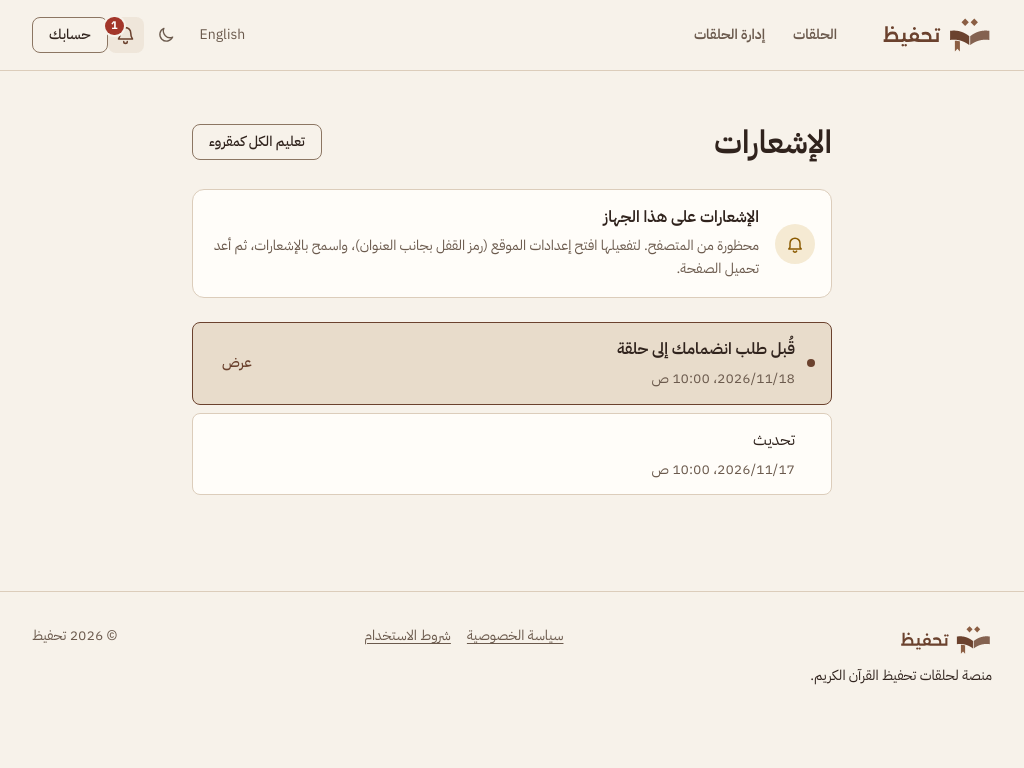
Test case: notifications › shows the unread count on the bell and marks everything read
The width and height of the screenshot is (1024, 768).
Expected: the link named "الإشعارات، واحد غير مقروء" is shown, top-left (108, 17), bottom-right (144, 53)
Expected: the text "تحديث" is shown, top-left (753, 428), bottom-right (795, 452)
Click the button "تعليم الكل كمقروء" at (257, 142), box top-left (192, 124), bottom-right (322, 160)
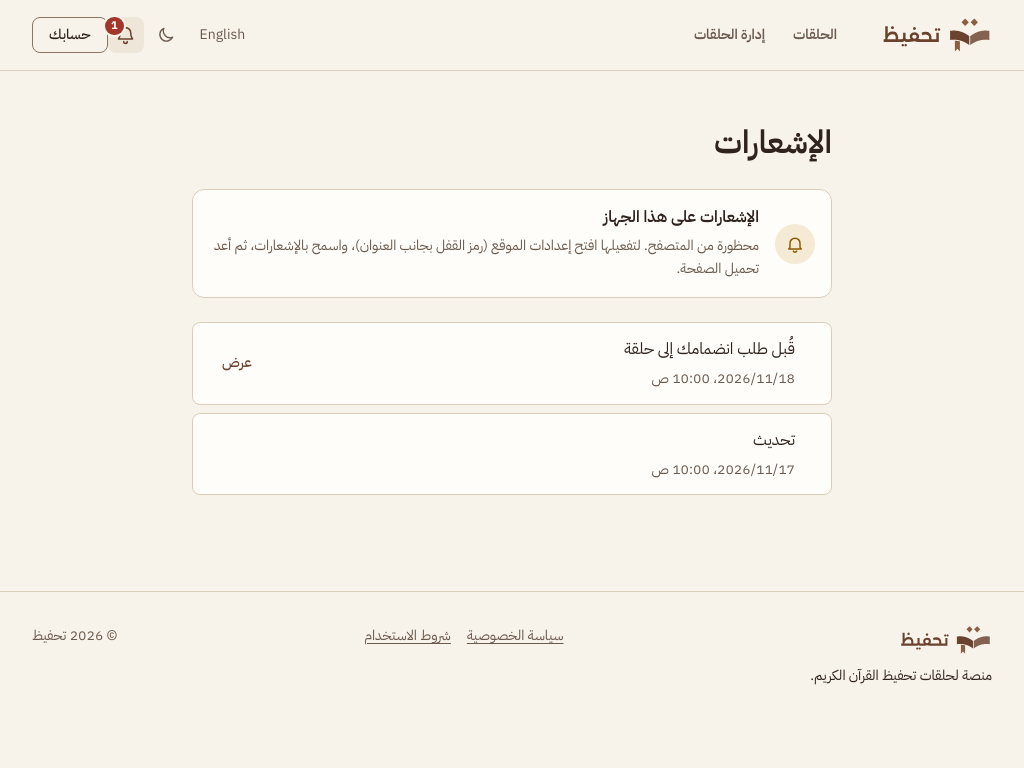
Expected: the button "تعليم الكل كمقروء" is gone
